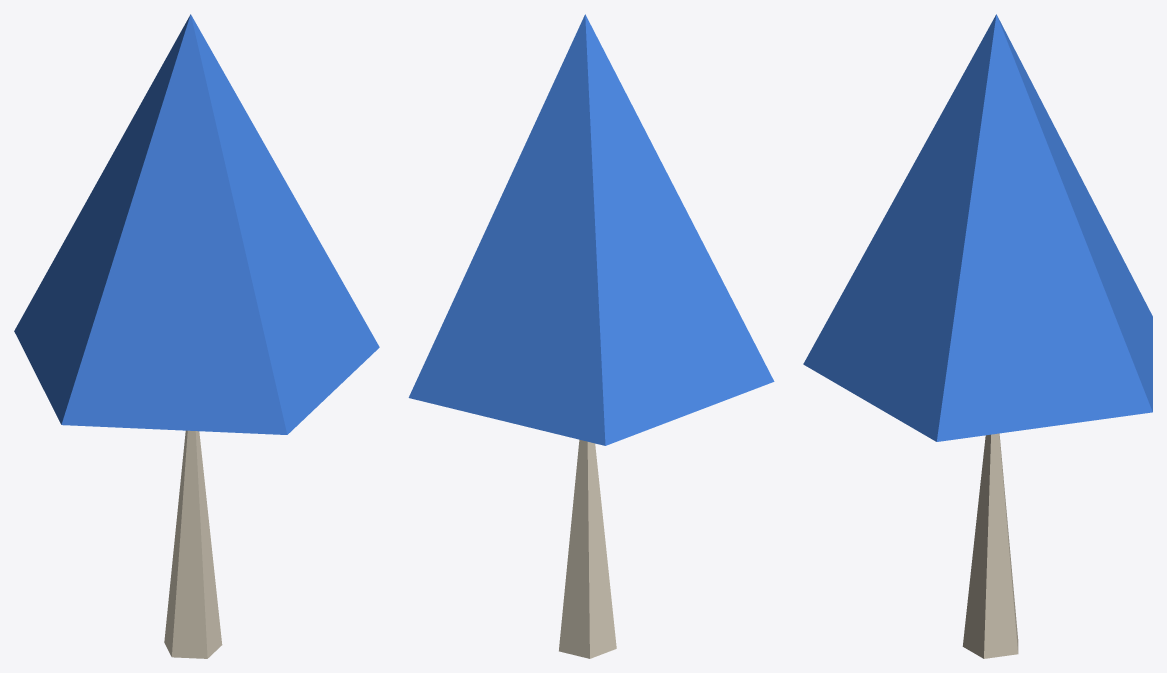
The model's file is land_tree_toy_cube_blue_far.glb.
3 renders of one model, left to right at view 1: azimuth 30°, elevation 25°; view 2: azimuth 150°, elevation 25°; view 3: azimuth 270°, elevation 25°, orthographic.
Bounding box in the file's own units: 3.42 × 6.5 × 3.26.
